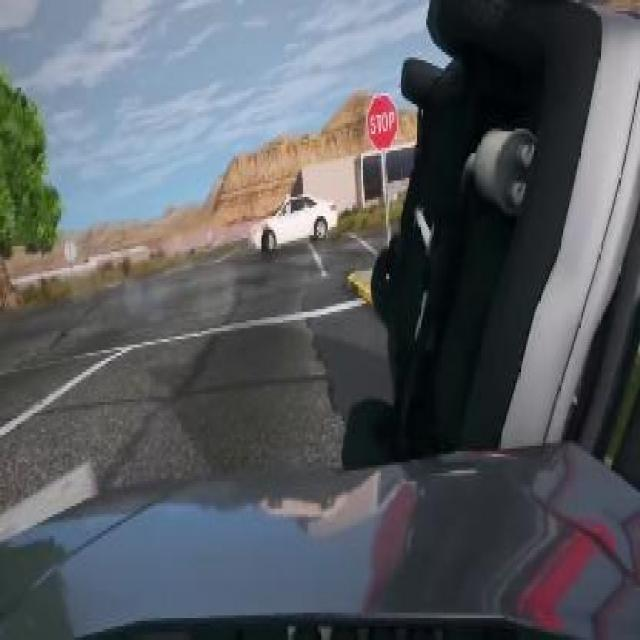accident: (337, 3, 640, 511)
